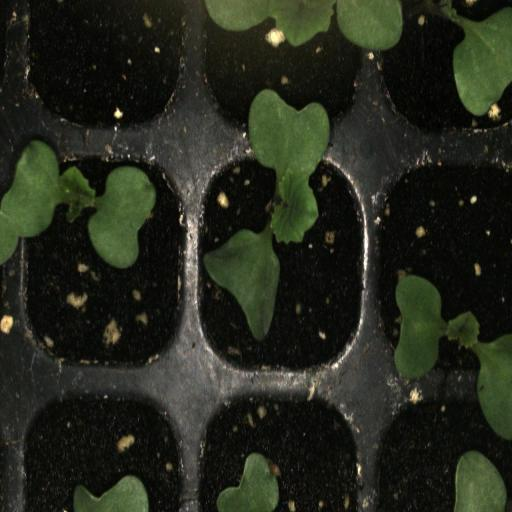Folha: (182, 0, 403, 60), (441, 0, 512, 116), (216, 452, 279, 512), (454, 450, 507, 512), (73, 475, 149, 512)
Germinacao: (15, 137, 195, 382), (194, 136, 370, 386), (370, 137, 512, 390)
